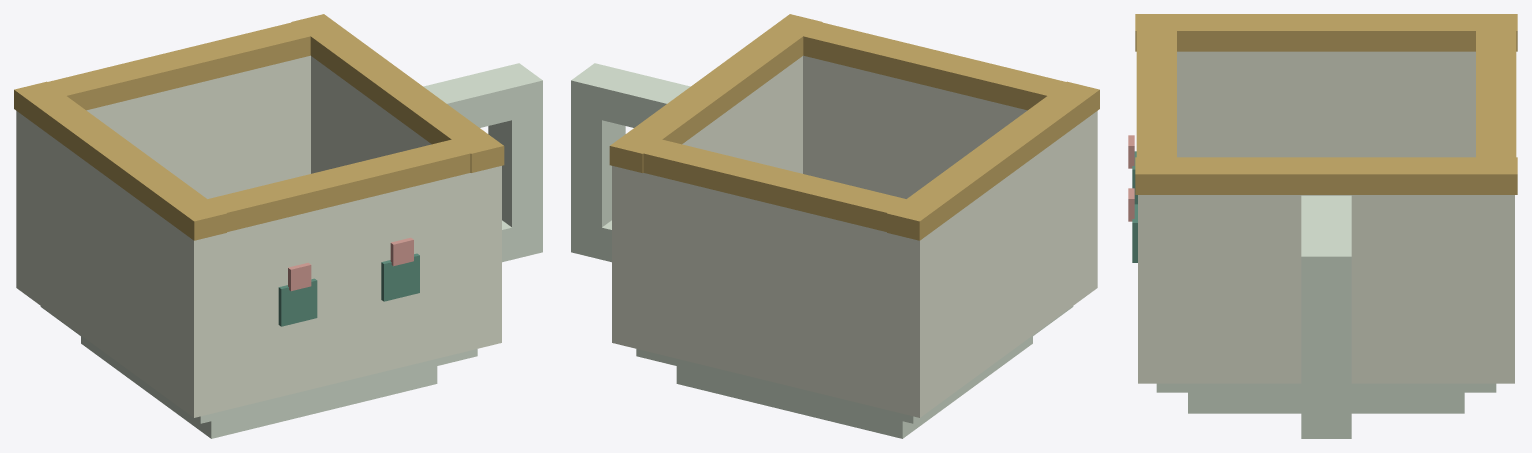
Rendered from tea_cup.glb.
The picture shows the model from 3 angles, left to right: view 1: azimuth 30°, elevation 25°; view 2: azimuth 150°, elevation 25°; view 3: azimuth 270°, elevation 25°; orthographic projection. The views are drawn at different scales.
Parts seen in each view (by area): view 1: cup wall.009, cup wall.008, cup wall.011, cup wall.010, gold rim.008, gold rim.009, gold rim.011, gold rim.010, handle outer.002, porcelain foot.002, handle bridge.004, hollow bowl base.002 (+4 smaller); view 2: cup wall.011, cup wall.008, cup wall.009, cup wall.010, gold rim.008, gold rim.011, gold rim.009, gold rim.010, handle outer.002, porcelain foot.002, handle bridge.004, hollow bowl base.002 (+1 smaller); view 3: cup wall.010, cup wall.008, gold rim.010, gold rim.008, handle outer.002, gold rim.009, gold rim.011, porcelain foot.002, hollow bowl base.002, handle bridge.004.
Part boxes in pixels (x1,y1,x2,y2): cup wall.009: (224,173,470,410); cup wall.008: (16,111,224,417); cup wall.011: (86,55,310,198); cup wall.010: (311,56,501,350); gold rim.008: (14,81,226,240); gold rim.009: (208,139,470,231); gold rim.011: (47,22,310,110); gold rim.010: (291,14,504,172); handle outer.002: (488,63,542,259); porcelain foot.002: (81,336,437,438); handle bridge.004: (423,69,511,127); hollow bowl base.002: (40,306,477,423); cup wall.011: (643,173,889,410); cup wall.008: (889,111,1097,417); cup wall.009: (803,55,1027,198); cup wall.010: (612,56,802,350); gold rim.008: (887,81,1099,240); gold rim.011: (643,139,905,231); gold rim.009: (803,22,1065,110); gold rim.010: (609,14,822,172); handle outer.002: (571,63,625,258); porcelain foot.002: (676,336,1032,438); handle bridge.004: (586,67,690,127); hollow bowl base.002: (636,306,1073,423); cup wall.010: (1138,195,1514,383); cup wall.008: (1177,51,1475,157); gold rim.010: (1135,157,1517,194); gold rim.008: (1135,14,1517,51); handle outer.002: (1301,240,1351,438); gold rim.009: (1136,30,1176,157); gold rim.011: (1476,30,1516,157); porcelain foot.002: (1188,392,1464,413); hollow bowl base.002: (1156,383,1496,392); handle bridge.004: (1301,195,1351,248).
Bounding box in the file's own units: 0.26 × 0.1431 × 0.1934.
6 materials, 6 textured.
